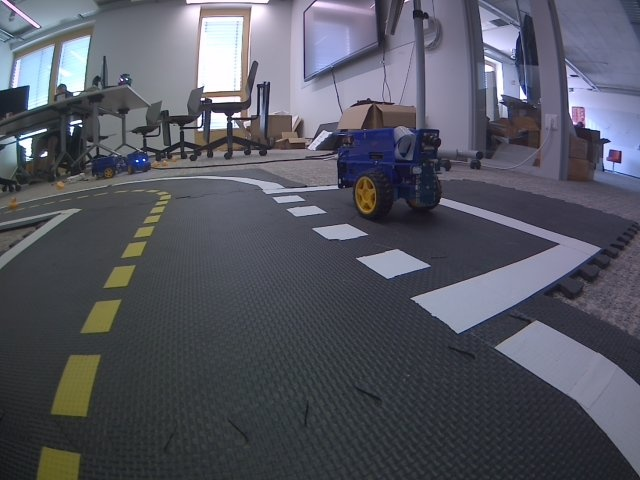Bot: (334, 128, 443, 219), (91, 155, 117, 180), (128, 151, 151, 175), (119, 73, 132, 86)
occupiedSlot: (259, 180, 603, 335)
